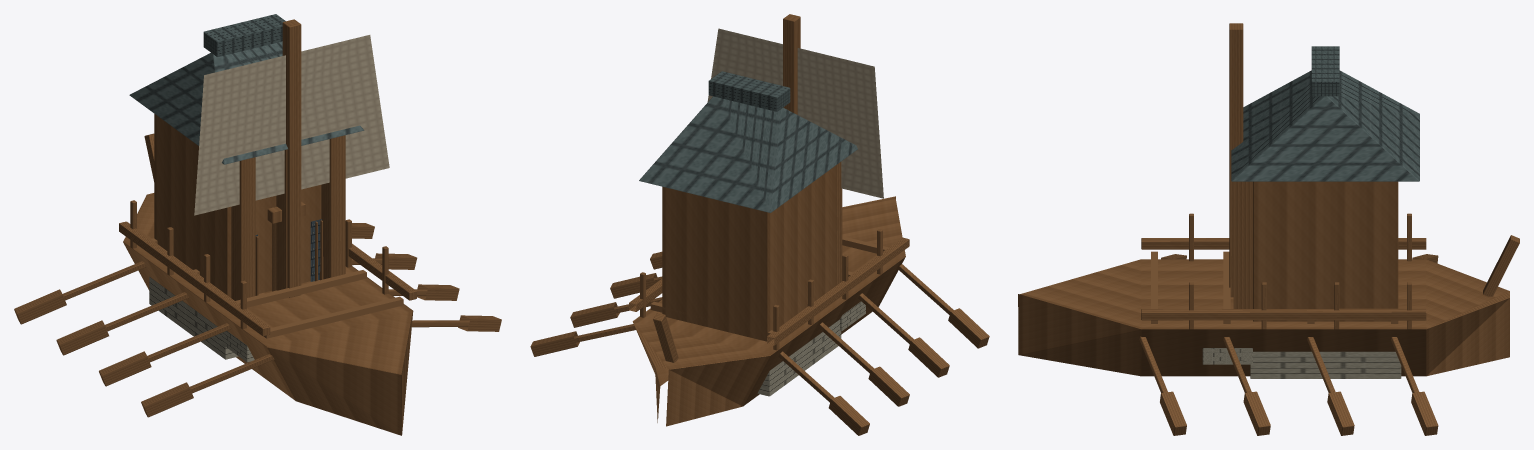
Rendered from unit-WARSHIP-lod0.glb.
3 views of the same model, side by side, from view 1: azimuth 30°, elevation 25°; view 2: azimuth 150°, elevation 25°; view 3: azimuth 270°, elevation 25° (orthographic). The views are drawn at different scales.
Bounding box in the file's own units: 0.7331 × 0.65 × 0.8985.
Materials: 1 (1 with a texture image).
